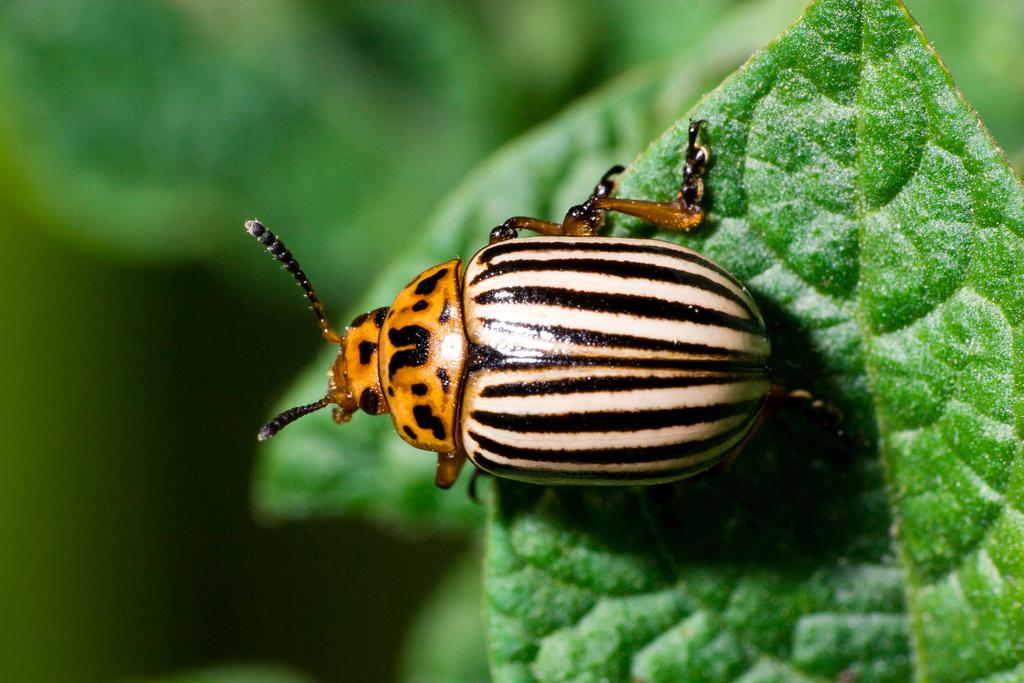potato_beetle: (142, 59, 862, 581)
